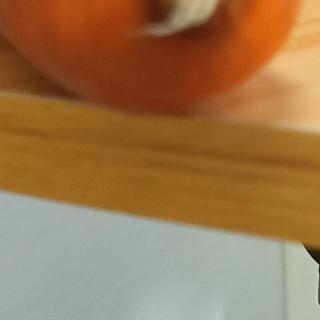carrot: (0, 0, 315, 120)
